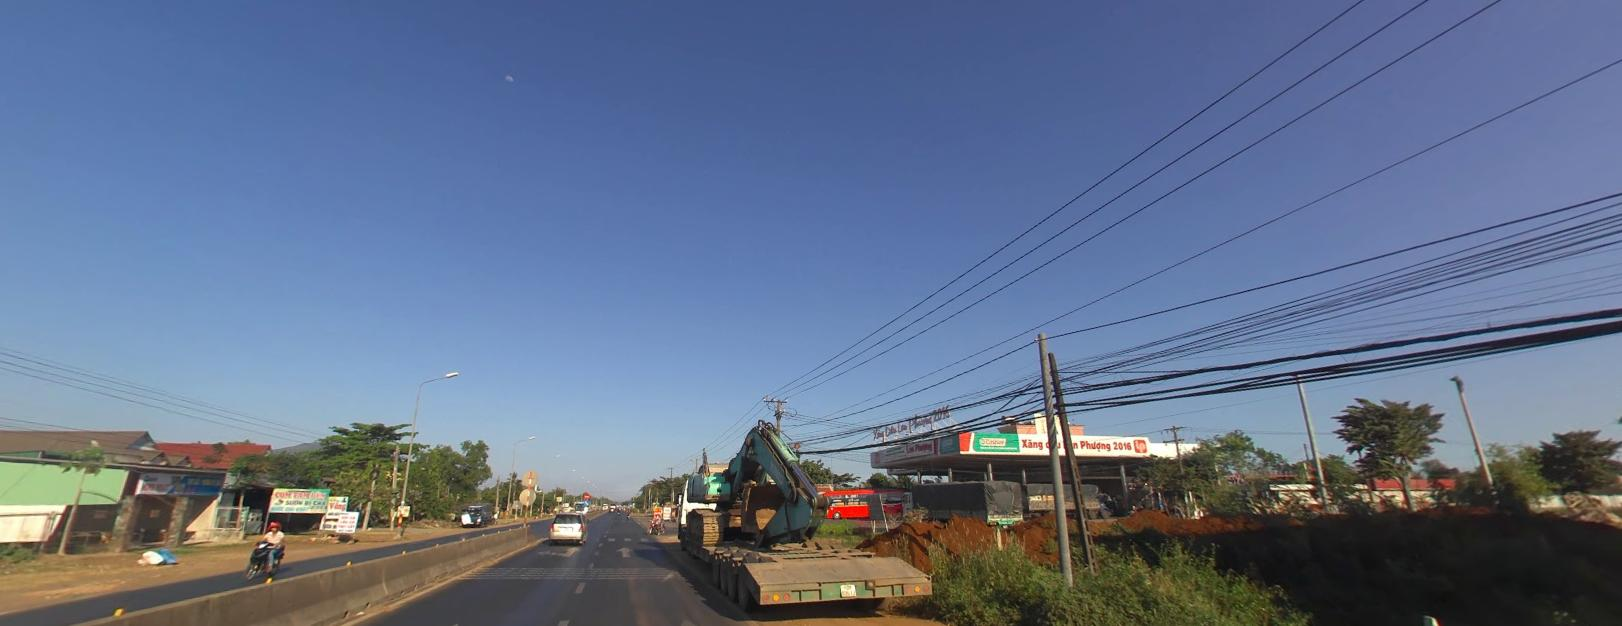Cam nguoc chieu: (583, 491, 589, 497)
Hieu lenh: (583, 499, 589, 505)
